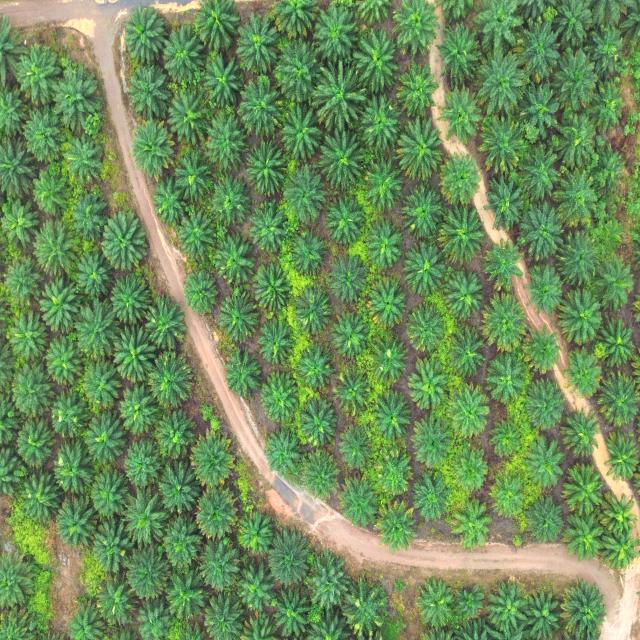Kelapa_Sawit: (315, 63, 363, 129), (318, 128, 368, 189), (478, 50, 524, 113), (355, 28, 400, 92), (276, 39, 321, 100), (398, 120, 444, 179), (479, 296, 528, 351), (480, 114, 524, 175), (438, 22, 481, 84), (18, 43, 62, 103), (558, 287, 604, 344), (558, 586, 608, 638), (240, 77, 284, 136), (54, 70, 100, 126), (75, 301, 120, 358), (554, 50, 596, 111), (315, 4, 358, 63), (237, 12, 279, 72), (522, 203, 565, 261), (518, 21, 560, 80), (104, 214, 148, 270), (306, 558, 352, 611), (439, 208, 485, 261), (521, 438, 567, 491), (447, 384, 493, 437), (123, 491, 166, 547), (130, 120, 176, 172), (360, 94, 401, 152), (149, 354, 193, 408), (280, 104, 322, 160), (598, 371, 640, 427), (403, 243, 448, 295), (128, 65, 172, 118), (123, 8, 166, 62), (395, 0, 438, 54), (168, 86, 208, 144), (521, 382, 567, 432), (33, 224, 78, 275), (269, 534, 313, 586), (520, 143, 560, 200), (162, 28, 204, 82), (207, 112, 246, 170), (557, 168, 596, 226), (0, 551, 37, 612), (126, 547, 170, 598), (11, 364, 53, 417), (561, 465, 607, 513), (195, 0, 240, 49), (556, 111, 596, 166), (114, 326, 154, 381), (440, 153, 483, 204), (192, 435, 234, 487), (408, 360, 450, 412), (212, 233, 254, 285), (444, 268, 486, 320), (403, 185, 444, 238), (407, 473, 452, 521), (195, 489, 238, 539), (247, 140, 286, 195), (173, 148, 212, 203), (324, 194, 366, 245), (61, 134, 103, 185), (25, 106, 63, 162), (40, 278, 80, 331), (484, 583, 530, 629), (477, 0, 521, 48), (338, 479, 382, 527), (204, 51, 242, 106), (441, 87, 481, 139), (559, 232, 599, 284), (250, 202, 290, 254), (598, 254, 635, 310), (368, 334, 410, 383), (54, 442, 92, 496), (520, 82, 558, 136), (364, 220, 405, 270), (162, 517, 203, 567), (364, 158, 404, 209), (398, 64, 437, 116), (409, 419, 452, 466), (486, 356, 528, 404), (198, 542, 240, 590), (522, 326, 563, 375), (600, 432, 640, 482), (210, 174, 250, 224), (56, 496, 96, 546), (86, 414, 125, 465), (299, 452, 342, 498), (262, 430, 305, 476), (525, 496, 568, 542), (561, 413, 604, 459), (258, 374, 300, 421), (297, 400, 339, 447), (236, 566, 277, 614), (166, 570, 207, 618), (367, 278, 408, 326), (486, 177, 526, 226), (219, 290, 258, 340), (147, 300, 186, 350), (598, 317, 636, 368), (405, 307, 448, 352), (372, 392, 413, 439), (18, 472, 58, 520), (31, 168, 70, 217), (176, 207, 214, 257), (562, 351, 604, 396), (221, 350, 262, 396), (81, 361, 121, 408), (330, 311, 370, 358), (484, 240, 523, 288), (69, 192, 107, 241), (156, 411, 196, 457), (16, 420, 54, 468), (452, 499, 494, 542), (288, 229, 328, 274), (328, 257, 367, 303), (236, 511, 275, 557), (273, 589, 311, 636), (554, 0, 592, 47), (10, 312, 47, 360), (50, 392, 87, 440), (1, 198, 37, 247), (254, 322, 294, 366), (93, 523, 130, 570), (204, 597, 244, 640), (417, 582, 456, 626), (486, 473, 524, 518), (253, 266, 291, 311), (297, 346, 335, 391), (74, 251, 111, 297), (124, 441, 161, 487), (4, 258, 41, 304), (591, 80, 624, 130), (181, 272, 220, 314), (336, 428, 374, 471), (295, 290, 332, 334), (134, 600, 172, 639), (334, 371, 370, 412), (601, 530, 638, 568), (66, 604, 105, 640), (597, 146, 626, 193), (0, 610, 32, 639), (356, 0, 394, 24), (438, 0, 479, 19), (624, 0, 640, 44)
